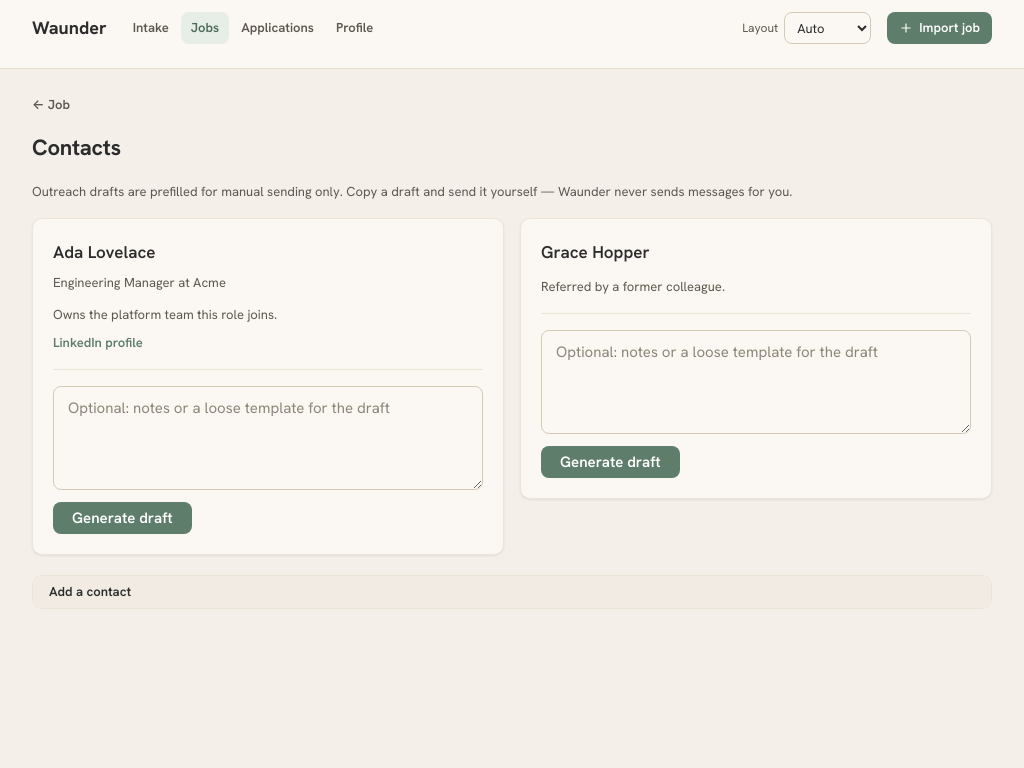
it: outreach generation › reports an unconfigured generator and a failed generation as different messages
Expected: the element with class "contact-create" is shown, [32,575,992,609]
Click the button with class "contact-outreach-generate" below "Ada Lovelace" at (122, 518), box [53,502,192,534]
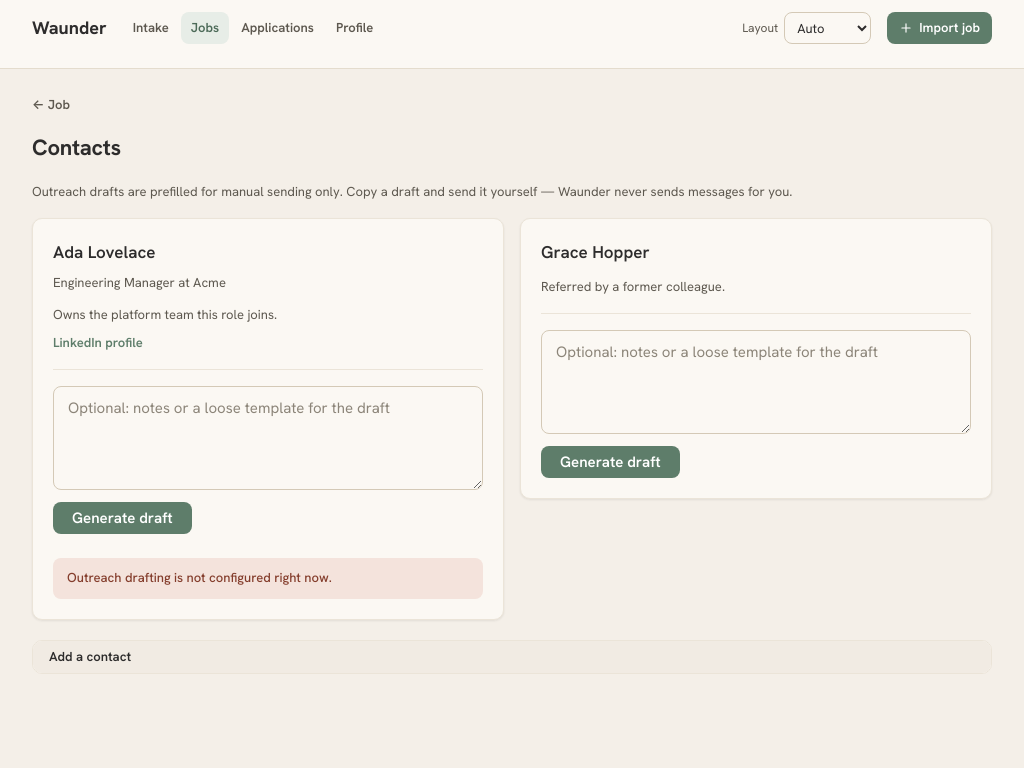
Result: the message with class "contact-outreach-error" reads "Outreach drafting is not configured right now." at [67,569,332,586]
Click the button with class "contact-outreach-generate" below "Ada Lovelace" at (122, 518), box [53,502,192,534]
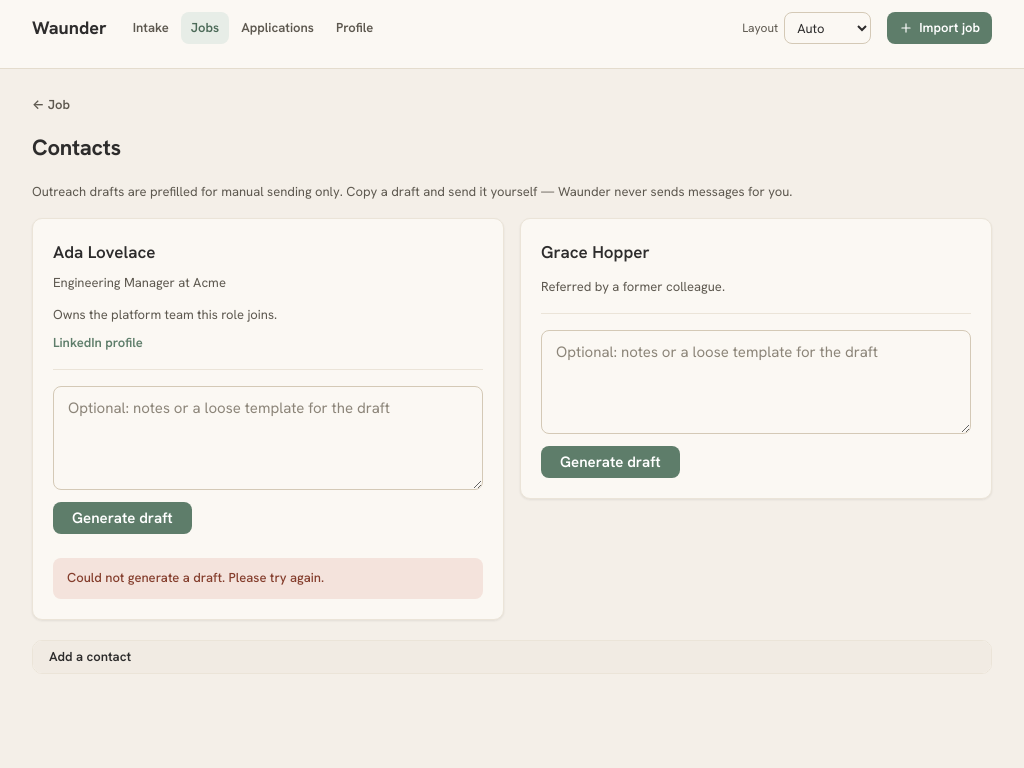
Result: the message with class "contact-outreach-error" reads "Could not generate a draft. Please try again." at [67,569,324,586]
